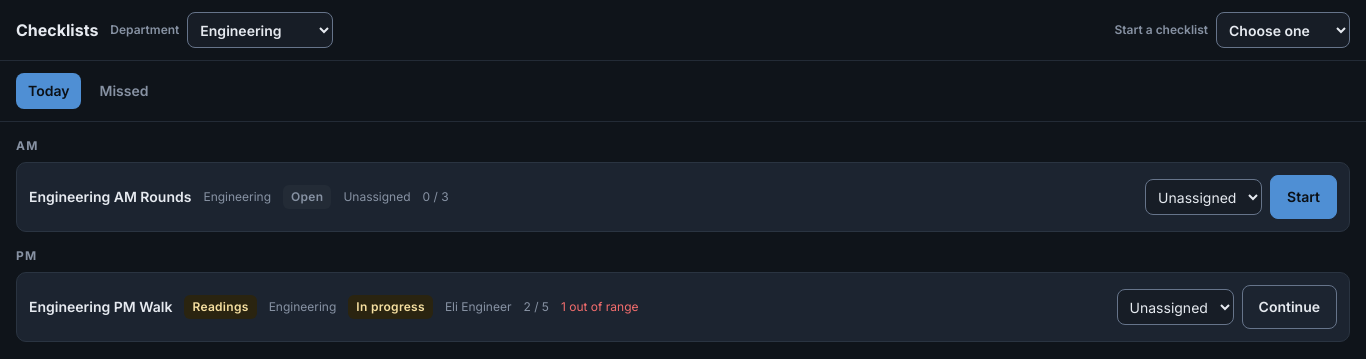
Scenario: ChecklistsPage › shows Assign and Missed only to supervisors and above
This screenshot has width=1366, height=359.
Expected: the text "Engineering AM Rounds" is shown, x1=29 y1=187 x2=191 y2=207
Expected: the dropdown named "Assign Engineering AM Rounds" is shown, x1=1145 y1=179 x2=1262 y2=215
Click the tab "Missed" at x=124, y=91, box x1=88 y1=73 x2=160 y2=109
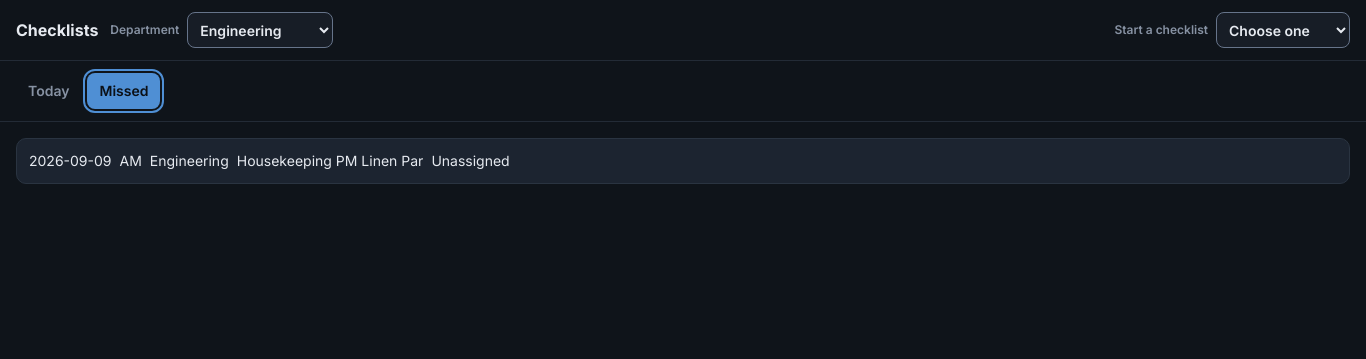
Result: the text "Housekeeping PM Linen Par" is shown at x1=237 y1=151 x2=423 y2=171
